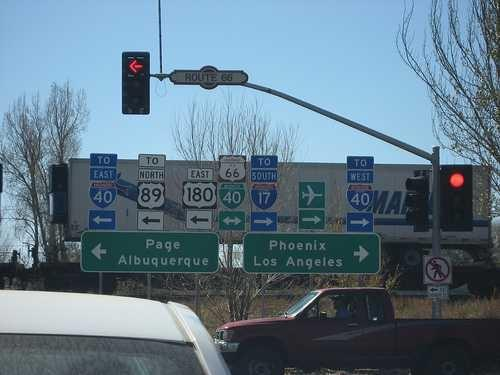red: (437, 162, 474, 231), (121, 49, 153, 118), (443, 165, 473, 196), (124, 52, 148, 78)
